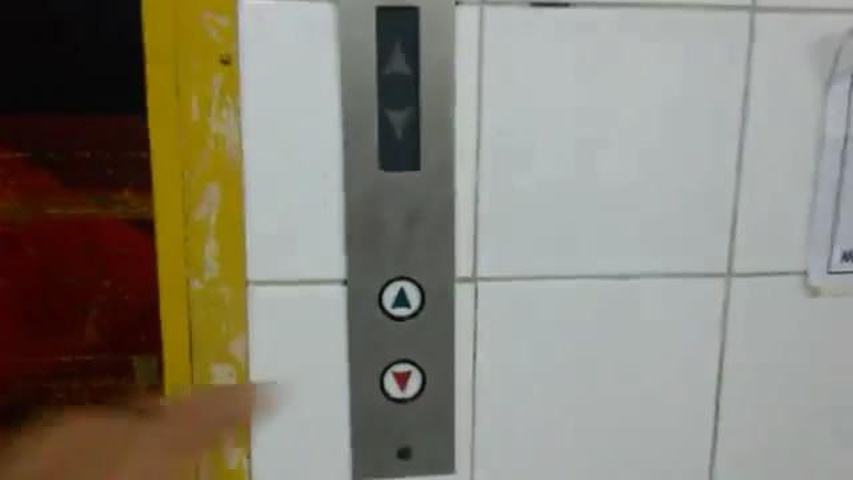down: (377, 358, 427, 406)
led: (376, 2, 422, 172)
up: (376, 275, 427, 322)
